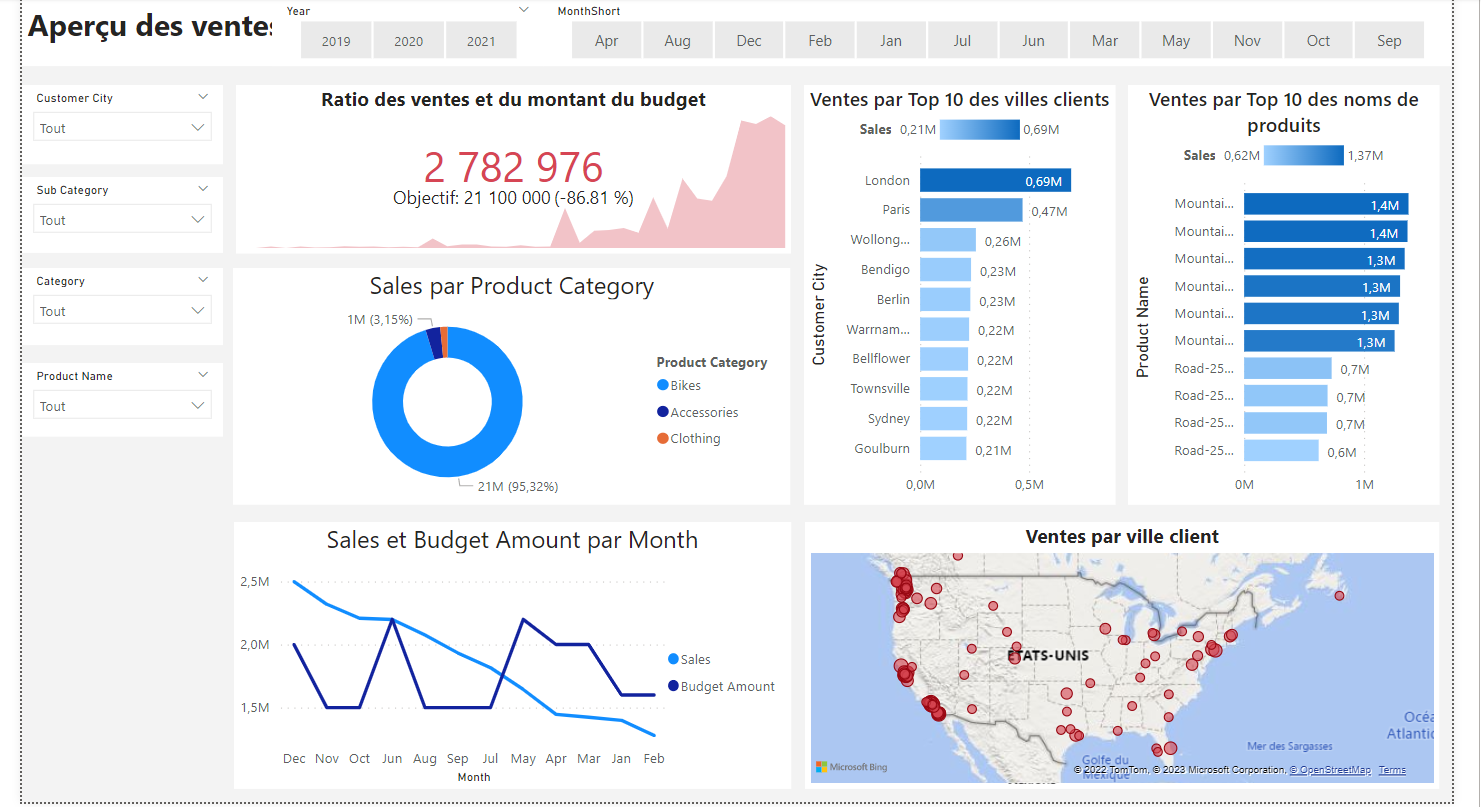

The page's visual inventory and layout, read from the dashboard file:
{"tool":"powerbi","page":{"name":"Aperçu des ventes","canvas":[1280,720],"ordinal":0},"visuals":[{"type":"textbox","box":[0,0,1280,61.1],"z":0},{"type":"slicer","fields":{"Values":["DIM_Customer.Customer City"]},"box":[0,77.8,179.6,70.6],"z":1000},{"type":"slicer","fields":{"Values":["DIM_Products.Sub Category"]},"box":[0,160.4,179.6,68.3],"z":2000},{"type":"slicer","fields":{"Values":["DIM_Products.Product Category"]},"box":[0,241.9,179.6,69.4],"z":3000},{"type":"slicer","fields":{"Values":["DIM_Products.Product Name"]},"box":[0,326.9,179.6,65.9],"z":4000},{"type":"slicer","fields":{"Values":["Dim_Date_Excel.Year"]},"box":[223.9,0,243.1,61.1],"z":5000},{"type":"slicer","fields":{"Values":["Dim_Date_Excel.MonthShort"]},"box":[467,0,813,61.1],"z":6000},{"type":"kpi","title":"Ratio des ventes et du montant du budget","fields":{"Indicator":["Key Measures.Sales"],"Goal":["Key Measures.Budget_Amount"],"TrendLine":["FactInternetSale.SalesAmount"]},"box":[191.6,77.8,496.9,150.9],"z":7000},{"type":"donutChart","fields":{"Category":["DIM_Products.Product Category"],"Y":["Key Measures.Sales"]},"box":[189.2,241.9,499.3,211.9],"z":8000},{"type":"lineChart","fields":{"Y":["Key Measures.Sales","Key Measures.Budget_Amount"],"Category":["Dim_Date_Excel.MonthShort"]},"box":[189.5,468.9,498.5,239.2],"z":9000},{"type":"barChart","title":"Ventes par Top 10 des villes clients","fields":{"Y":["Key Measures.Sales"],"Category":["DIM_Customer.Customer City"]},"box":[700.5,77.8,279,376],"z":10000},{"type":"barChart","title":"Ventes par Top 10 des noms de produits","fields":{"Y":["Key Measures.Sales"],"Category":["DIM_Products.Product Name"]},"box":[990.2,77.8,279,376],"z":11000},{"type":"map","title":"Ventes par ville client","fields":{"Category":["DIM_Customer.Customer City"],"Size":["Key Measures.Sales"]},"box":[701,468.9,568.4,239.2],"z":12000}]}

Visuals, with their boxes on the page's 1280x720 design canvas (x1, y1, x2, y2). These are canvas units, not pixel positions in the 1481x807 screenshot, which may show the page scaled, cropped or inside an application window:
textbox: 0:0:1280:61
slicer - DIM_Customer.Customer City: 0:78:180:148
slicer - DIM_Products.Sub Category: 0:160:180:229
slicer - DIM_Products.Product Category: 0:242:180:311
slicer - DIM_Products.Product Name: 0:327:180:393
slicer - Dim_Date_Excel.Year: 224:0:467:61
slicer - Dim_Date_Excel.MonthShort: 467:0:1280:61
"Ratio des ventes et du montant du budget" kpi: 192:78:688:229
donutChart - DIM_Products.Product Category x Key Measures.Sales: 189:242:688:454
lineChart - Key Measures.Sales x Key Measures.Budget_Amount: 190:469:688:708
"Ventes par Top 10 des villes clients" barChart: 700:78:980:454
"Ventes par Top 10 des noms de produits" barChart: 990:78:1269:454
"Ventes par ville client" map: 701:469:1269:708
